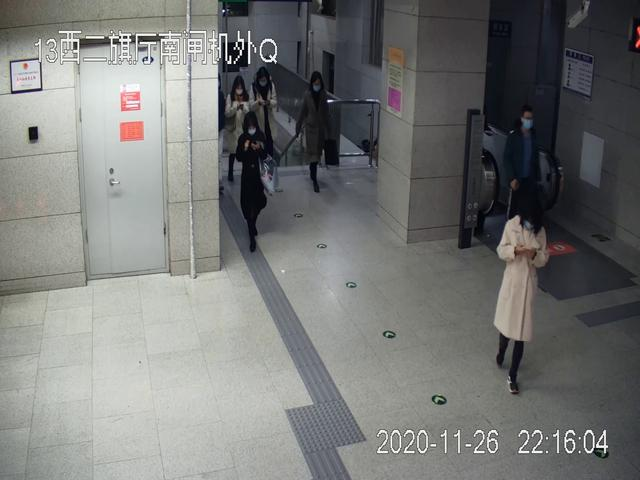person: (493, 195, 547, 394), (236, 112, 277, 252), (503, 107, 542, 244), (295, 72, 332, 191), (249, 67, 279, 181), (224, 76, 253, 180)
